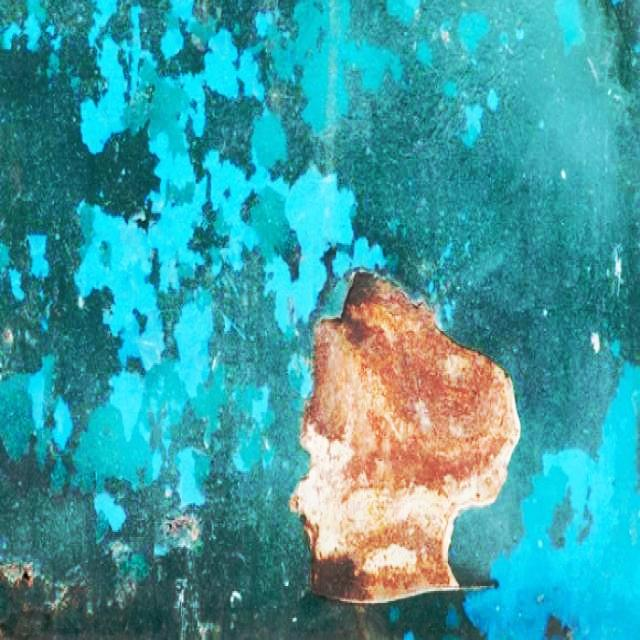Corrosion: (296, 272, 520, 556)
